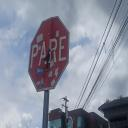Pare: (26, 11, 72, 95)
